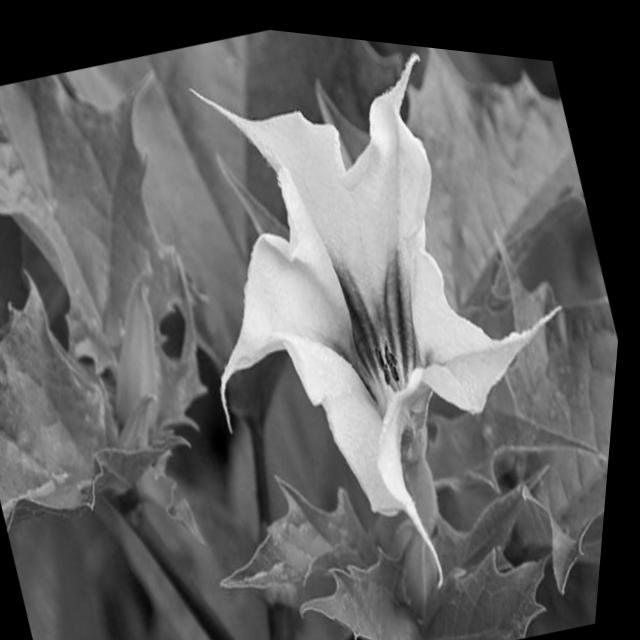Flower: (134, 15, 608, 574)
